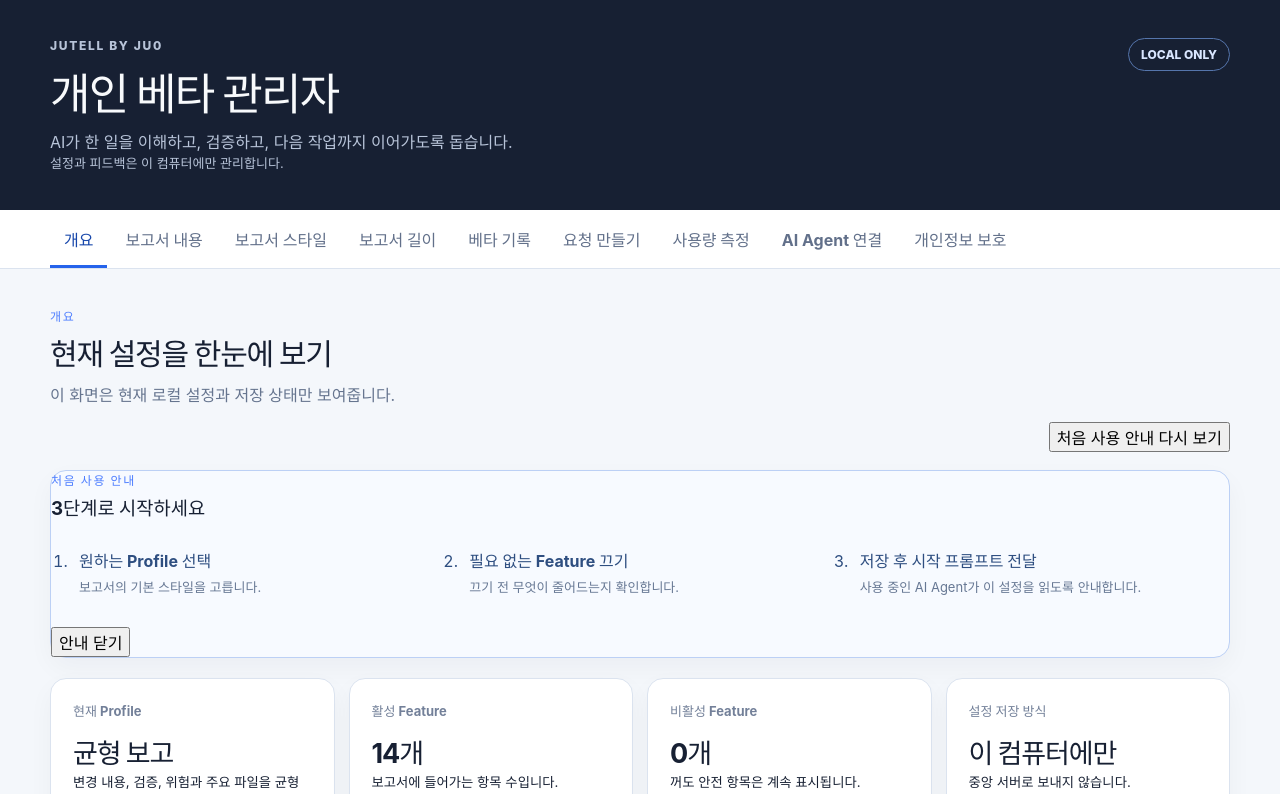
Test: local admin screens › separates MCP server status from actual provider connection status
The width and height of the screenshot is (1280, 794).
What coordinates should you click on to do the following:
click the button "AI Agent 연결"
I would click on:
 (832, 239)
Its box is [768, 210, 896, 268].
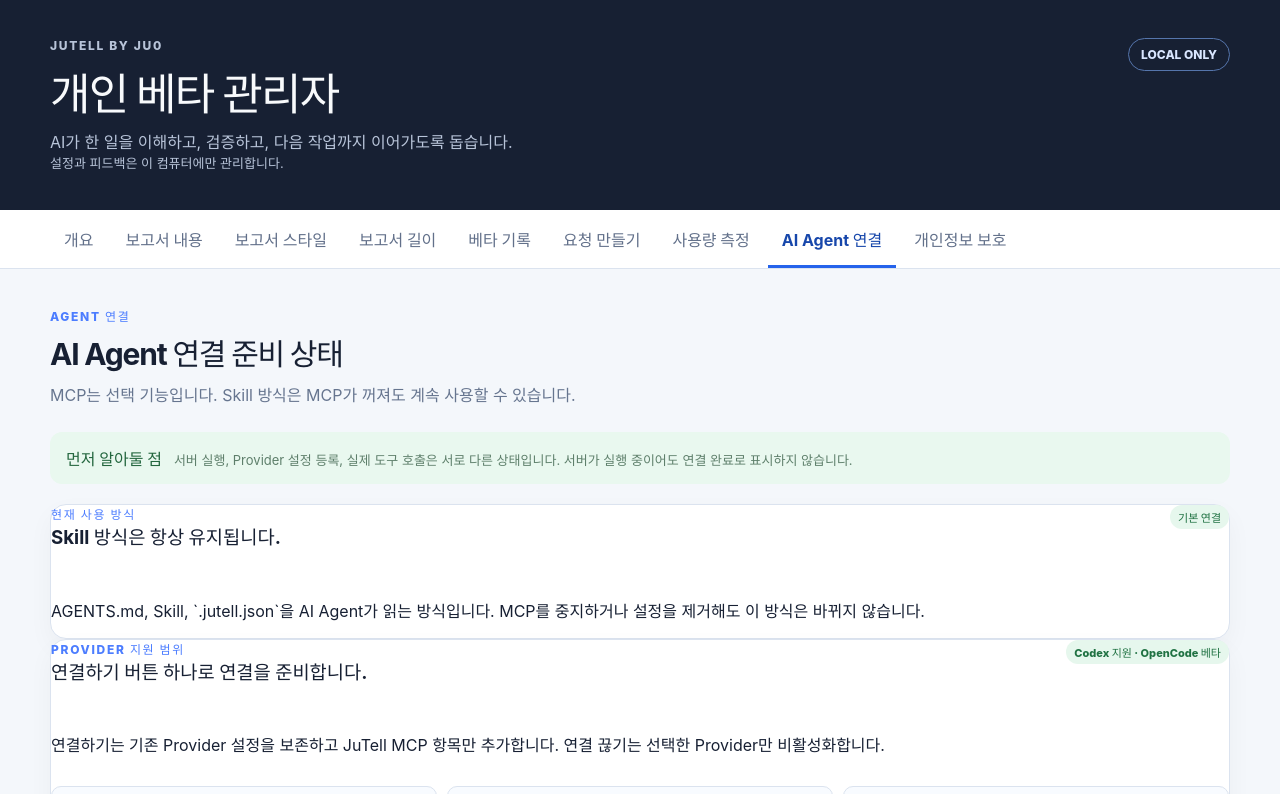
expect the heading "Skill 방식은 항상 유지됩니다." is shown: met, box [51, 522, 281, 549]
expect the text "Codex 지원 · OpenCode 베타" is shown: met, box [1066, 640, 1229, 664]
